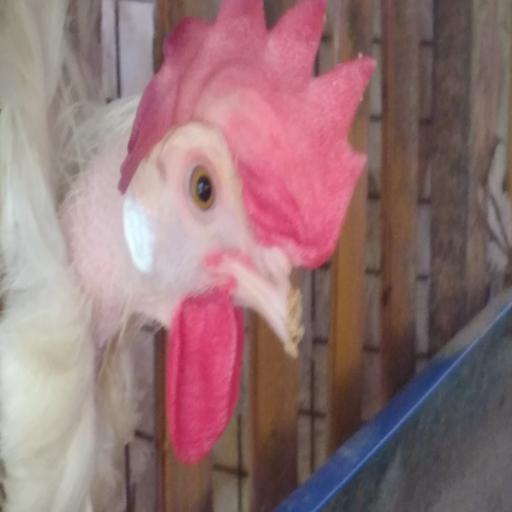healthy: (121, 44, 267, 341)
